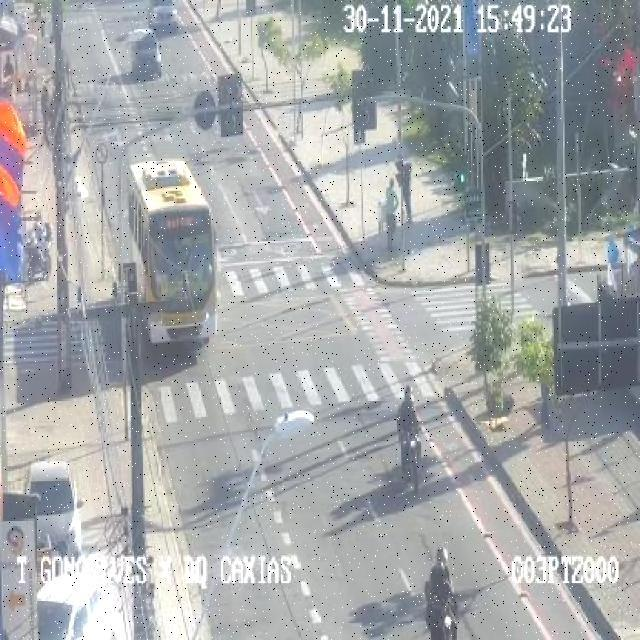Bus: (126, 156, 218, 350)
Car: (128, 26, 166, 84)
Cycle: (395, 382, 430, 497), (422, 545, 457, 640)
